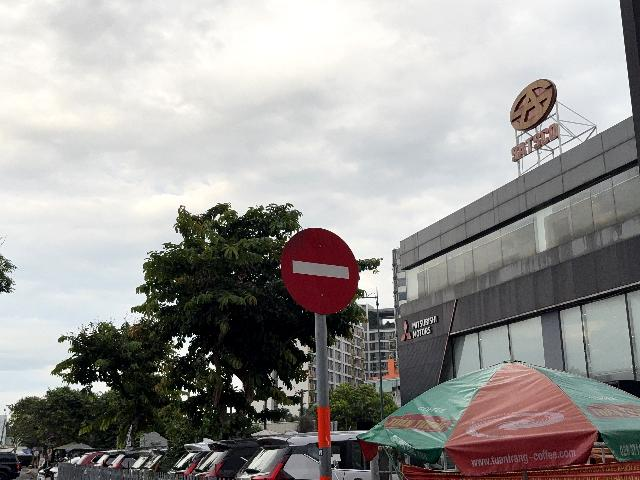cam-di-nguoc-chieu: (281, 228, 359, 315)
